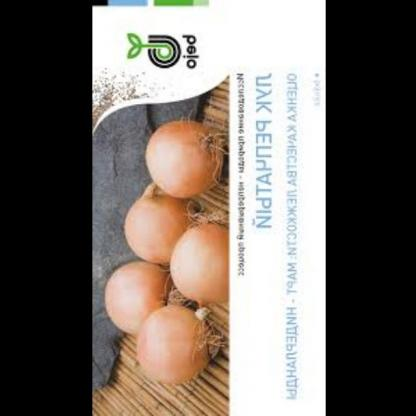onion: (114, 188, 194, 279), (140, 121, 224, 204), (133, 304, 213, 387), (101, 261, 170, 342), (164, 226, 227, 312)
